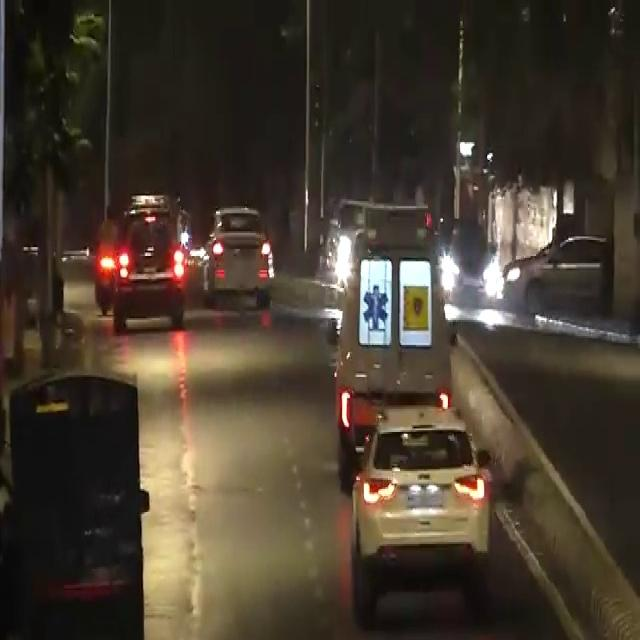ambulance: (320, 176, 444, 454)
